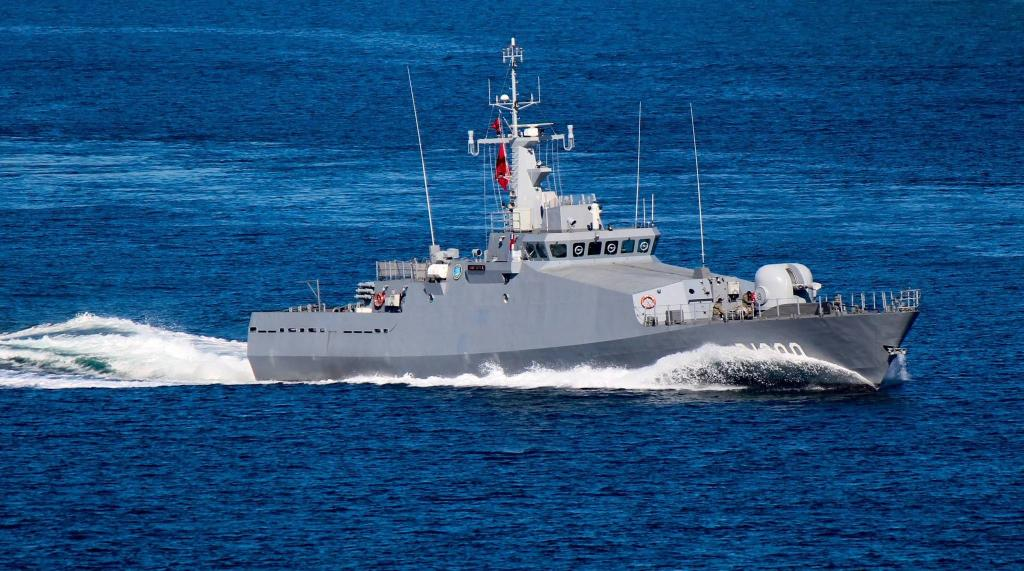Warship: (240, 40, 930, 406)
